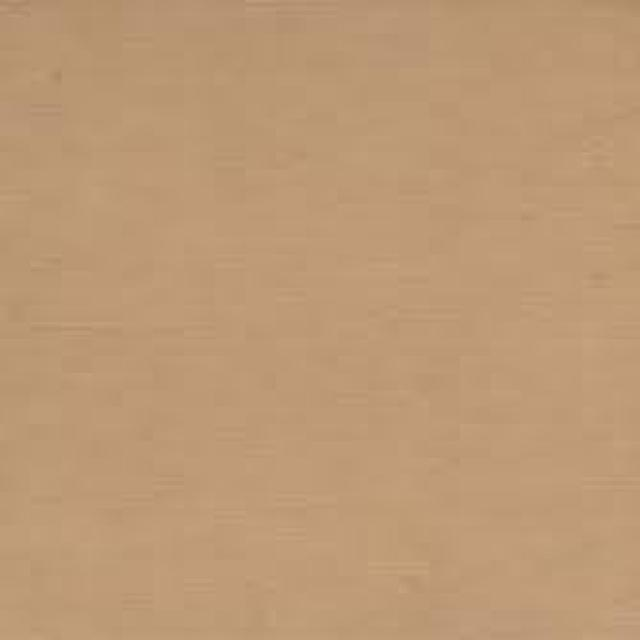cardboard: (0, 0, 636, 638)
